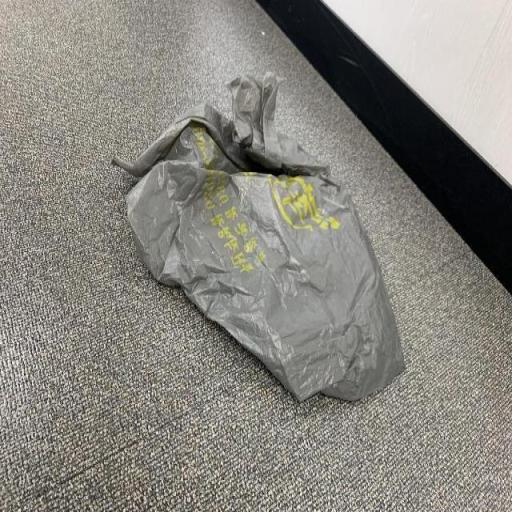plastic-bag: (110, 74, 404, 410)
